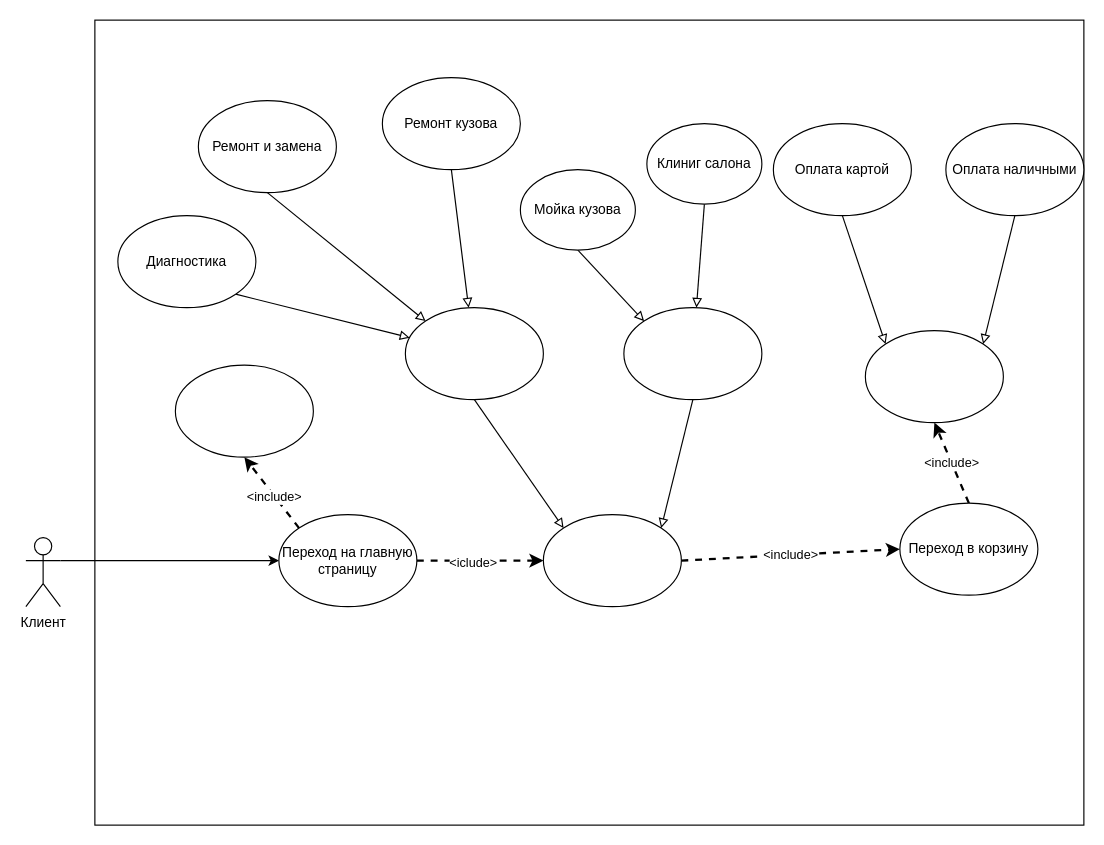
This 1104x845 diagram has some shape labels left out. Each missing label, with the centre of its shape:
"Автомойка" goes at pixel 692 353.
"Оформление заявки" goes at pixel 933 376.
"Переход в котолог услуг" goes at pixel 611 560.
"Просмотр новостей" goes at pixel 243 410.
"Сервис" goes at pixel 473 353.
